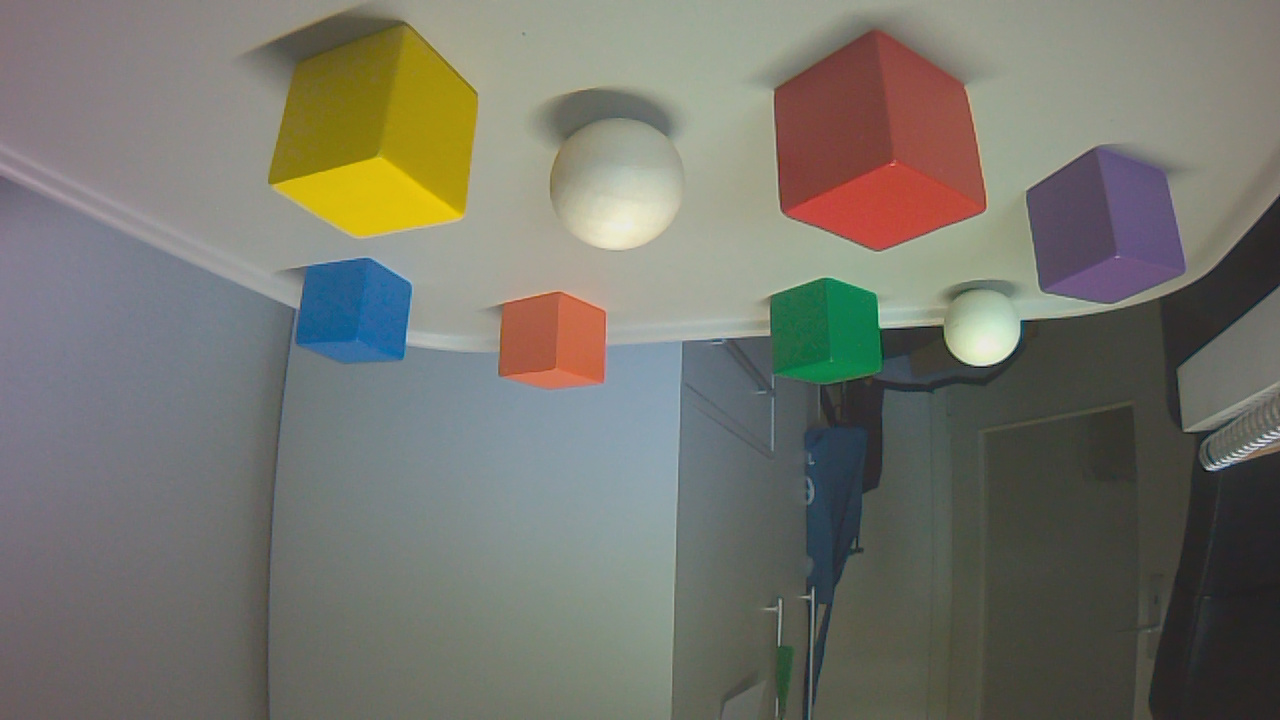ball: (552, 120, 693, 256), (948, 291, 1027, 372)
cube_blue: (297, 264, 419, 372)
cube_green: (775, 281, 889, 392)
cube_orange: (501, 296, 612, 397)
cube_purple: (1029, 151, 1193, 312)
cube_red: (778, 31, 993, 258)
cube_yellow: (271, 24, 486, 245)
